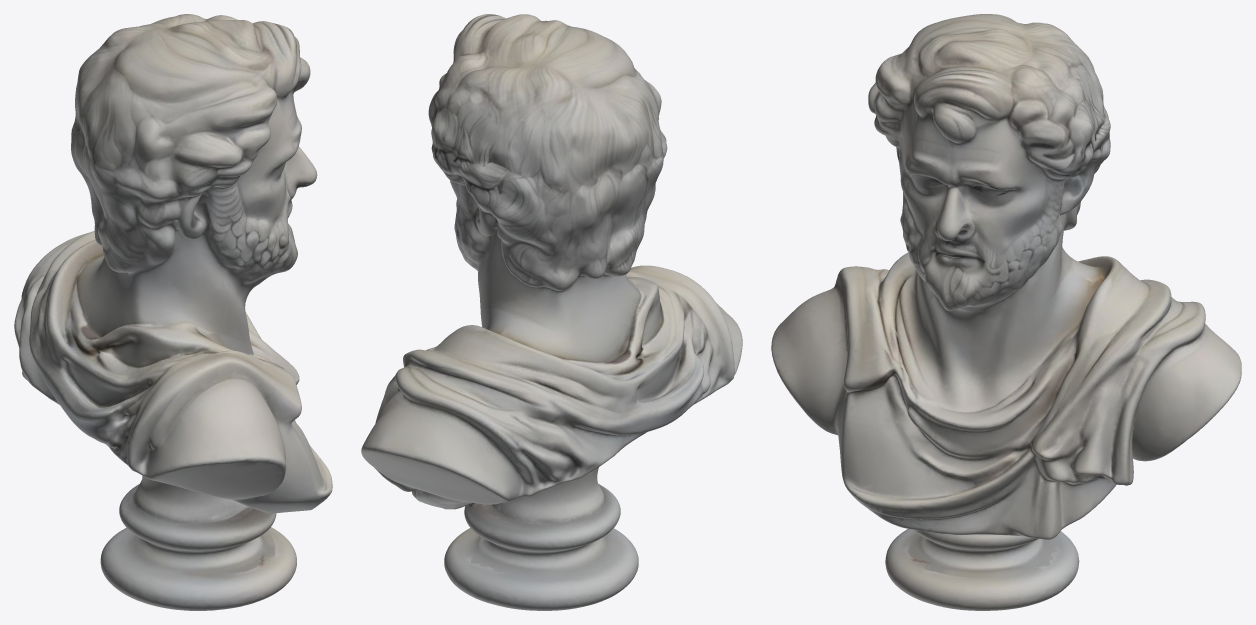
Rendered from epictetus.glb.
3 views of the same model, side by side, from view 1: azimuth 30°, elevation 25°; view 2: azimuth 150°, elevation 25°; view 3: azimuth 270°, elevation 25° (orthographic).
Parts seen in each view (by area): view 1: Object_4; view 2: Object_4; view 3: Object_4.
Part boxes in pixels (left/top/right/bottom): Object_4: left=14, top=14, right=332, bottom=610; Object_4: left=361, top=14, right=742, bottom=610; Object_4: left=771, top=14, right=1241, bottom=610.
Size of the model in its own units: 0.4508 by 0.9487 by 0.7401.
1 material, 1 textured.
